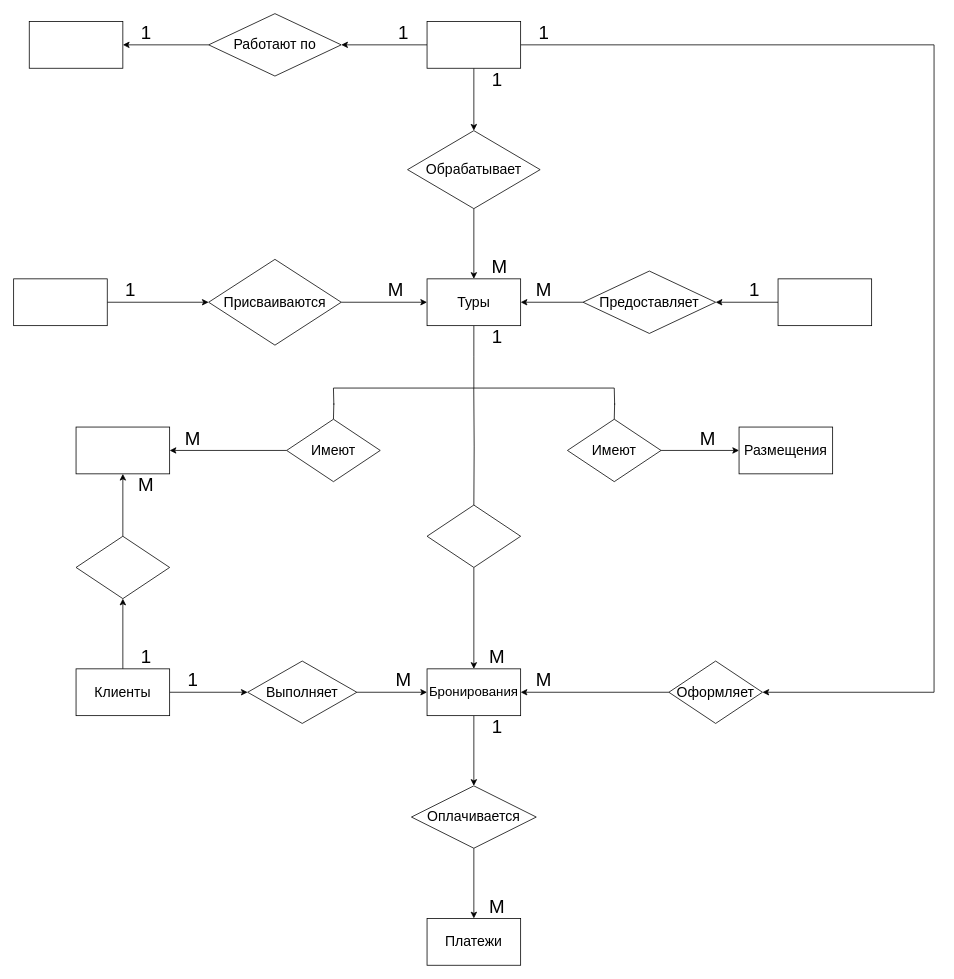
Image size: 954x979. Some labels were removed from this diagram. Each missing label, with the box of its shape:
Входят: (426, 504, 521, 567)
Договоры с менеджерами: (28, 21, 123, 68)
Менеджеры: (426, 21, 521, 68)
Отзывы: (75, 426, 170, 474)
Партнёры: (777, 278, 872, 326)
Ставят: (75, 535, 170, 599)
Типы Туров: (13, 278, 107, 326)
